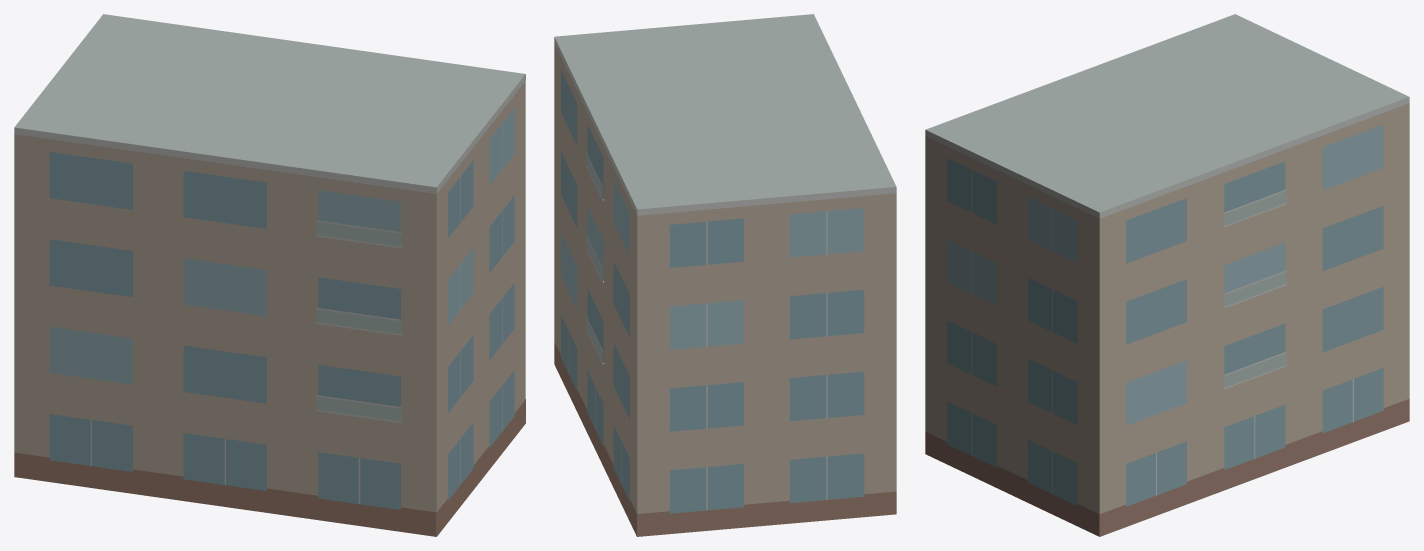
File: survey-upis-32718306.glb
3 renders of one model, left to right at view 1: azimuth 30°, elevation 25°; view 2: azimuth 150°, elevation 25°; view 3: azimuth 270°, elevation 25°, orthographic. The views are drawn at different scales.
Visible parts, largest first — view 1: survey-upis-32718306.tmp; view 2: survey-upis-32718306.tmp; view 3: survey-upis-32718306.tmp.
Part boxes in pixels (left/top/right/bottom): survey-upis-32718306.tmp: left=14, top=14, right=525, bottom=536; survey-upis-32718306.tmp: left=554, top=14, right=896, bottom=536; survey-upis-32718306.tmp: left=925, top=14, right=1409, bottom=536.
Bounding box in the file's own units: 16.81 × 12.8 × 17.33.
